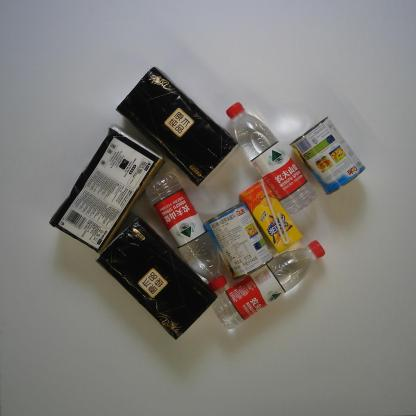Canned Food: (289, 115, 366, 196), (203, 200, 275, 280)
Drink: (226, 100, 317, 216), (211, 240, 326, 330), (145, 172, 227, 292), (239, 178, 305, 255)
Tissue: (94, 217, 219, 341), (48, 124, 165, 256), (115, 65, 239, 187)
